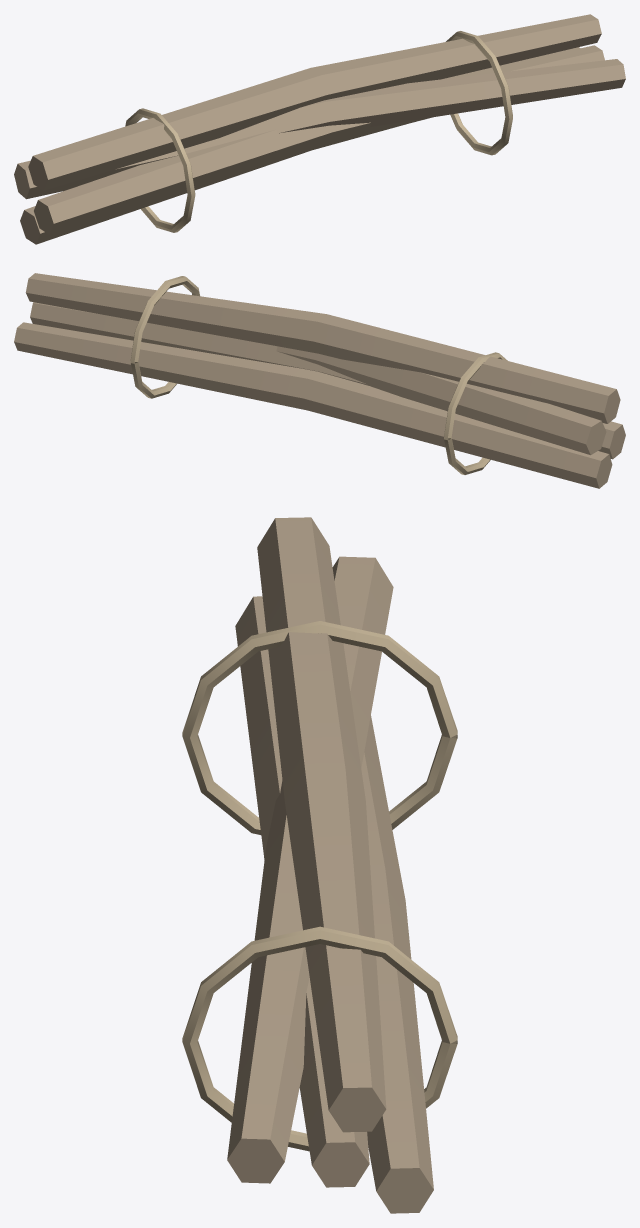
Rendered from feixe_lenha.glb.
The picture shows the model from 3 angles, top to bottom: view 1: azimuth 30°, elevation 25°; view 2: azimuth 150°, elevation 25°; view 3: azimuth 270°, elevation 25°; orthographic projection. The views are drawn at different scales.
Parts seen in each view (by area): view 1: feixe_lenha; view 2: feixe_lenha; view 3: feixe_lenha.
Part boxes in pixels (left/top/right/bottom): feixe_lenha: left=14, top=14, right=625, bottom=244; feixe_lenha: left=14, top=273, right=625, bottom=488; feixe_lenha: left=182, top=517, right=457, bottom=1213.
Size of the model in its own units: 0.9041 by 0.1745 by 0.1902.
